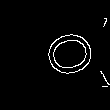O_W: (27, 25, 93, 84)
